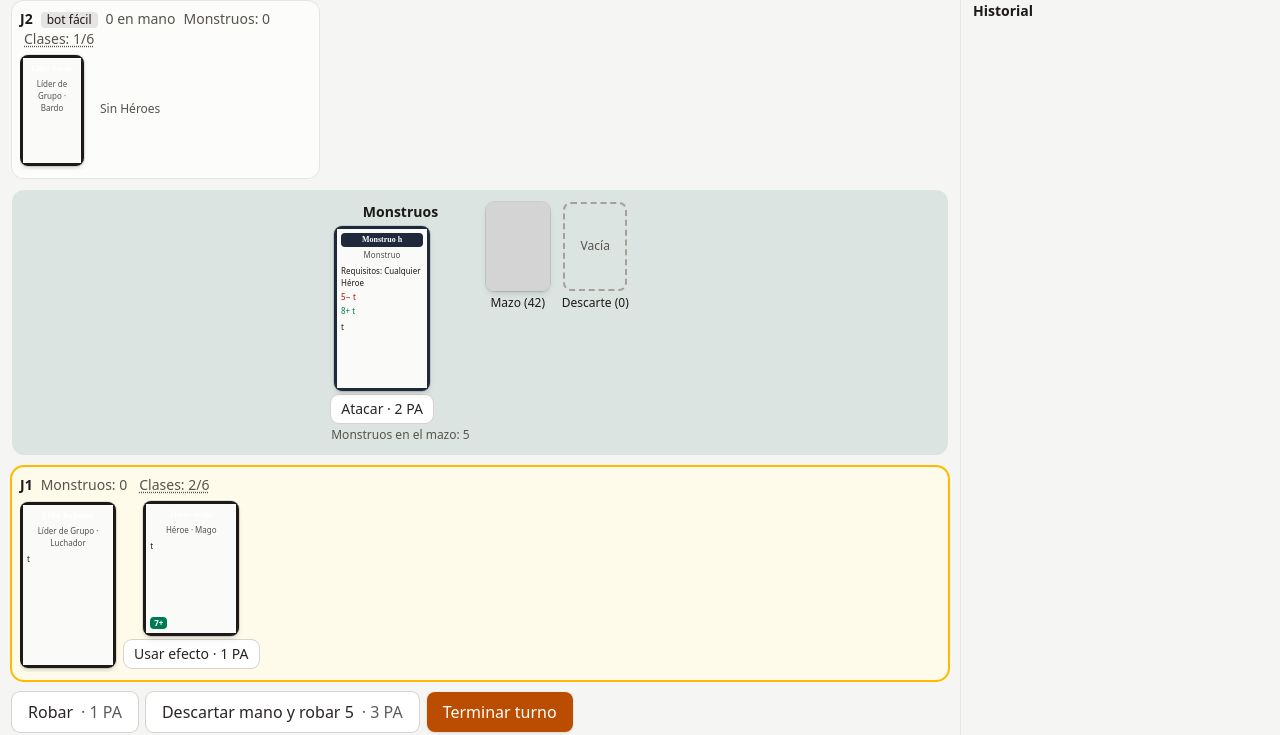
Test case: Mesa › la ventana de Modificadores de un ataque muestra los rangos de éxito y fracaso del Monstruo
(page scrolled)
Click the button "Atacar · 2 PA". click: (382, 409)
box: [331,395,433,423]
(page scrolled)
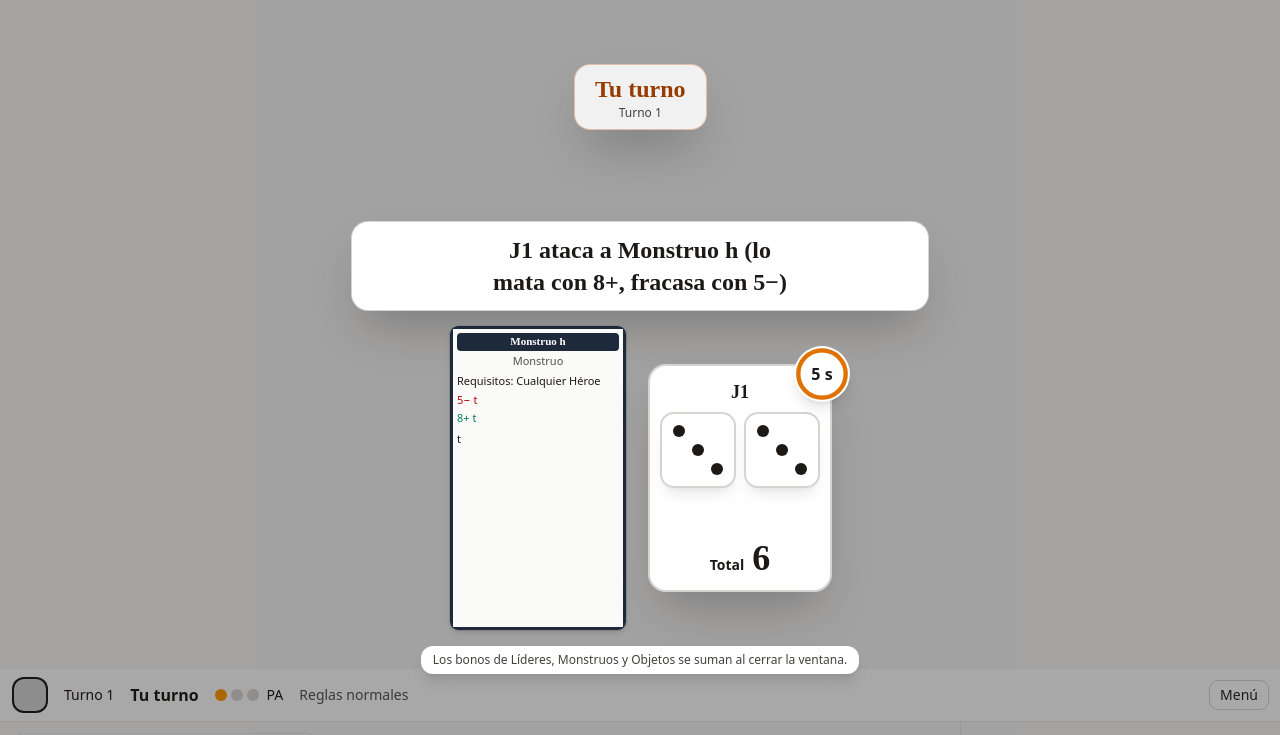
Now the heading "J1 ataca a Monstruo h (lo mata con 8+, fracasa con 5−)" is shown, box [493,237,787,295]
